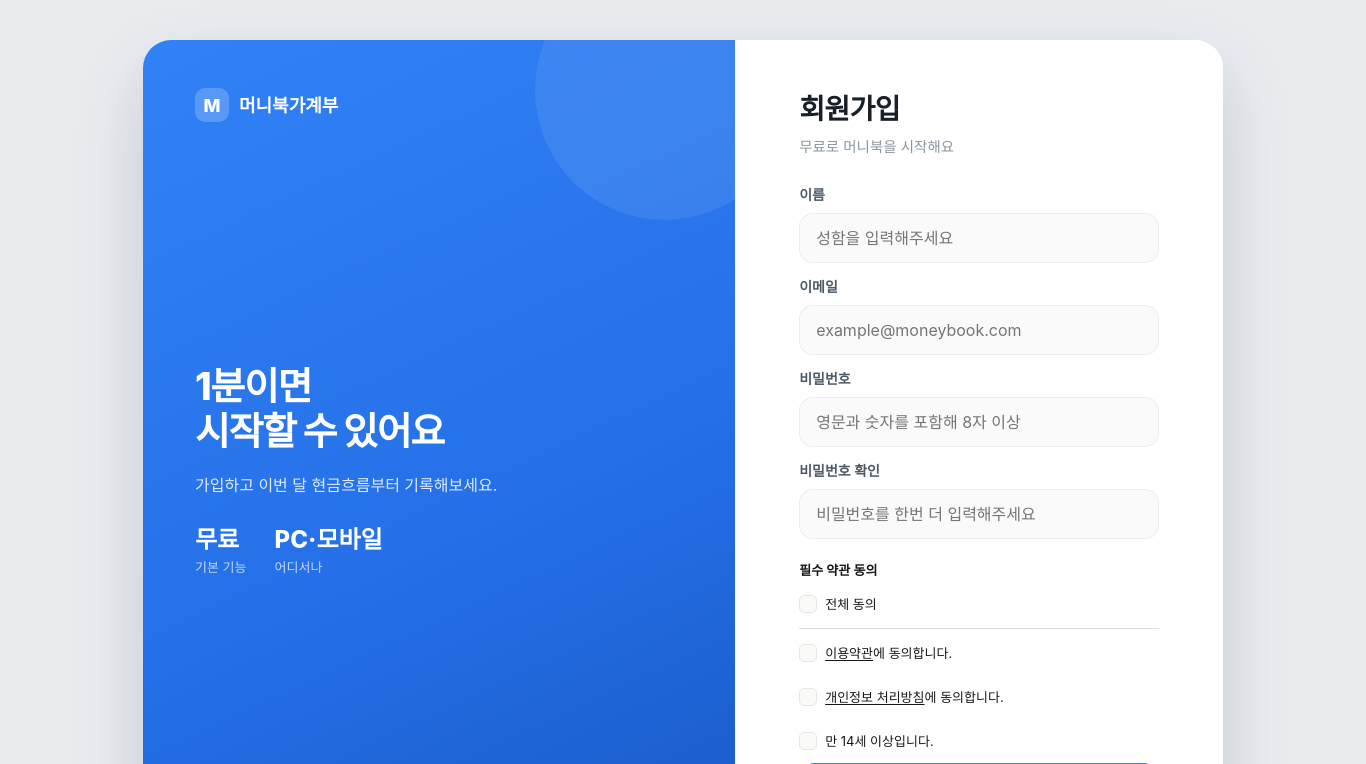
it: SignupPage legal consent validation › shows the Korean consent error and focuses the first unchecked checkbox
This screenshot has width=1366, height=764.
Type "홍길동" into the field labelled "이름" at (979, 238), box [799,213,1159,263]
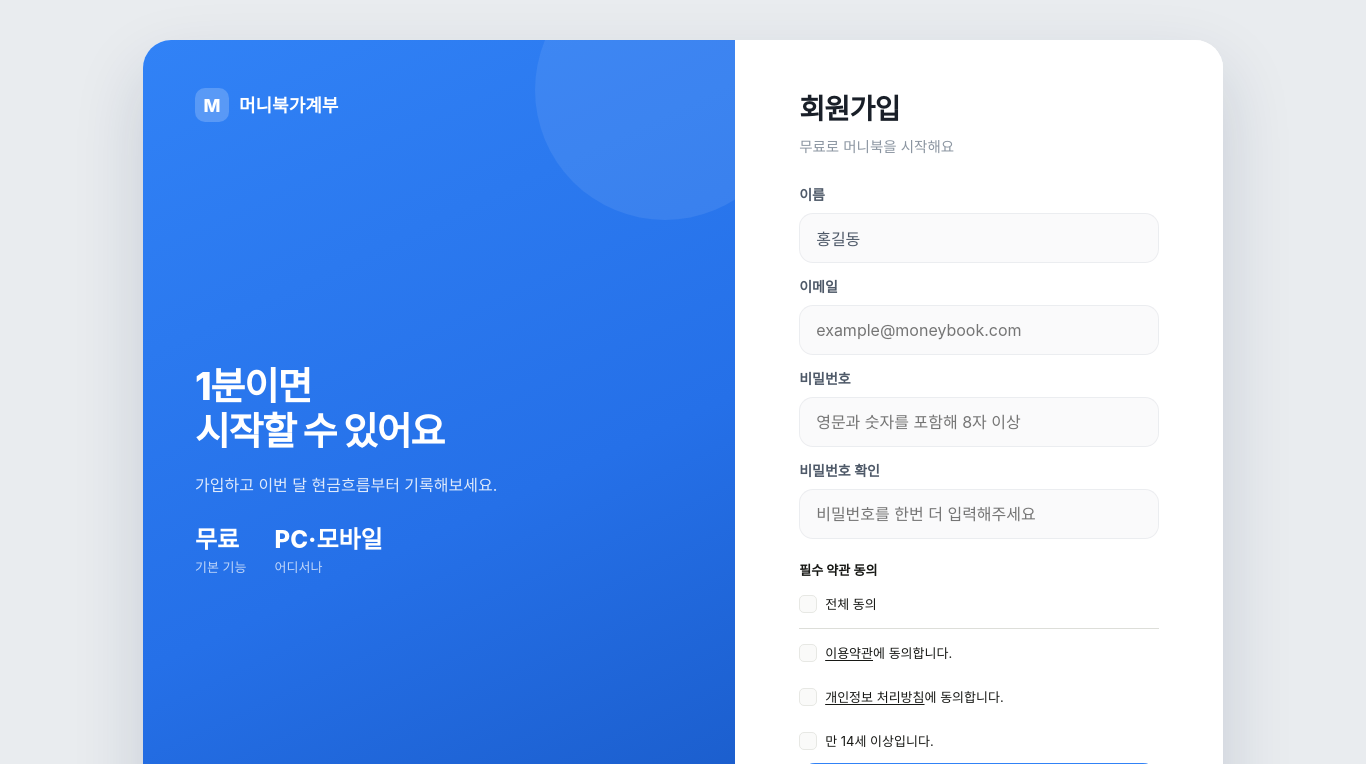
Type "hong@example.com" into the field labelled "이메일" at (979, 330), box [799,305,1159,355]
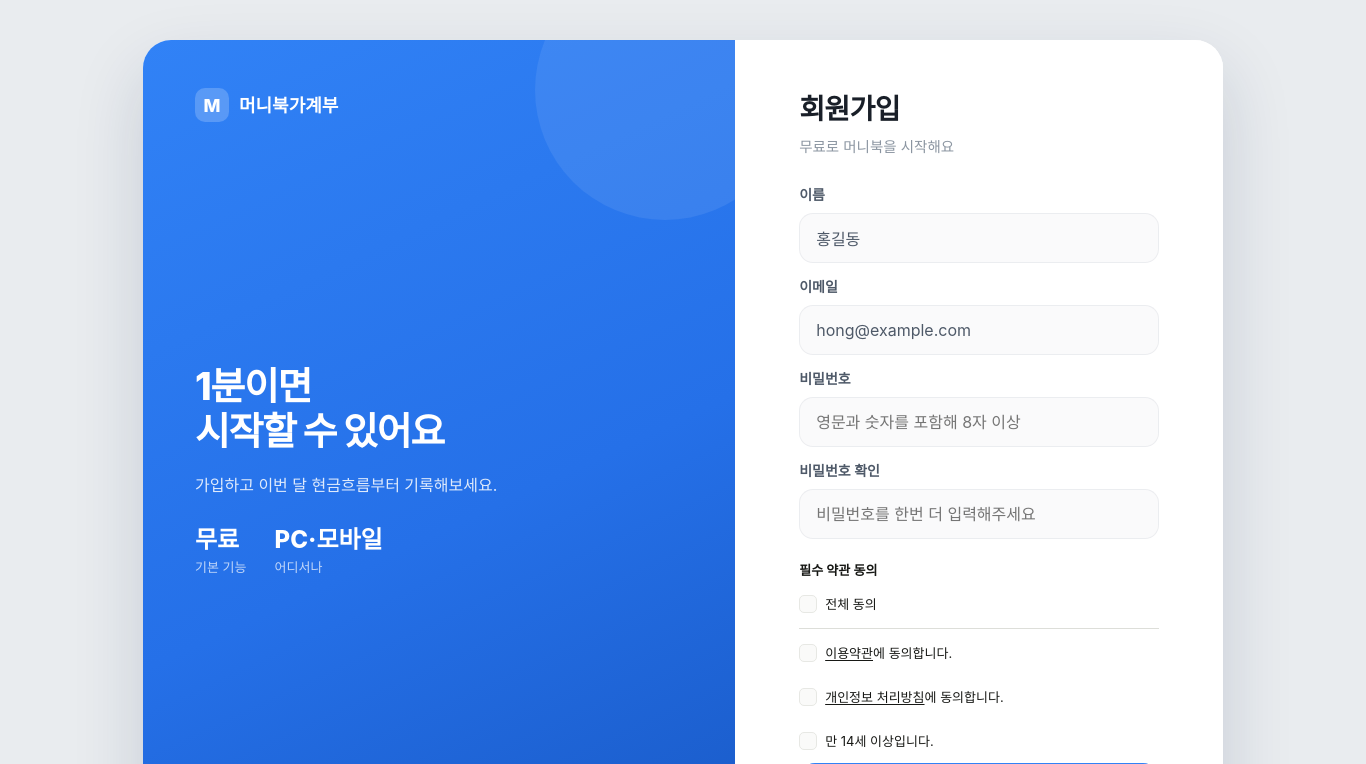
Type "password123" into the password field labelled "비밀번호" at (979, 422), box [799,397,1159,447]
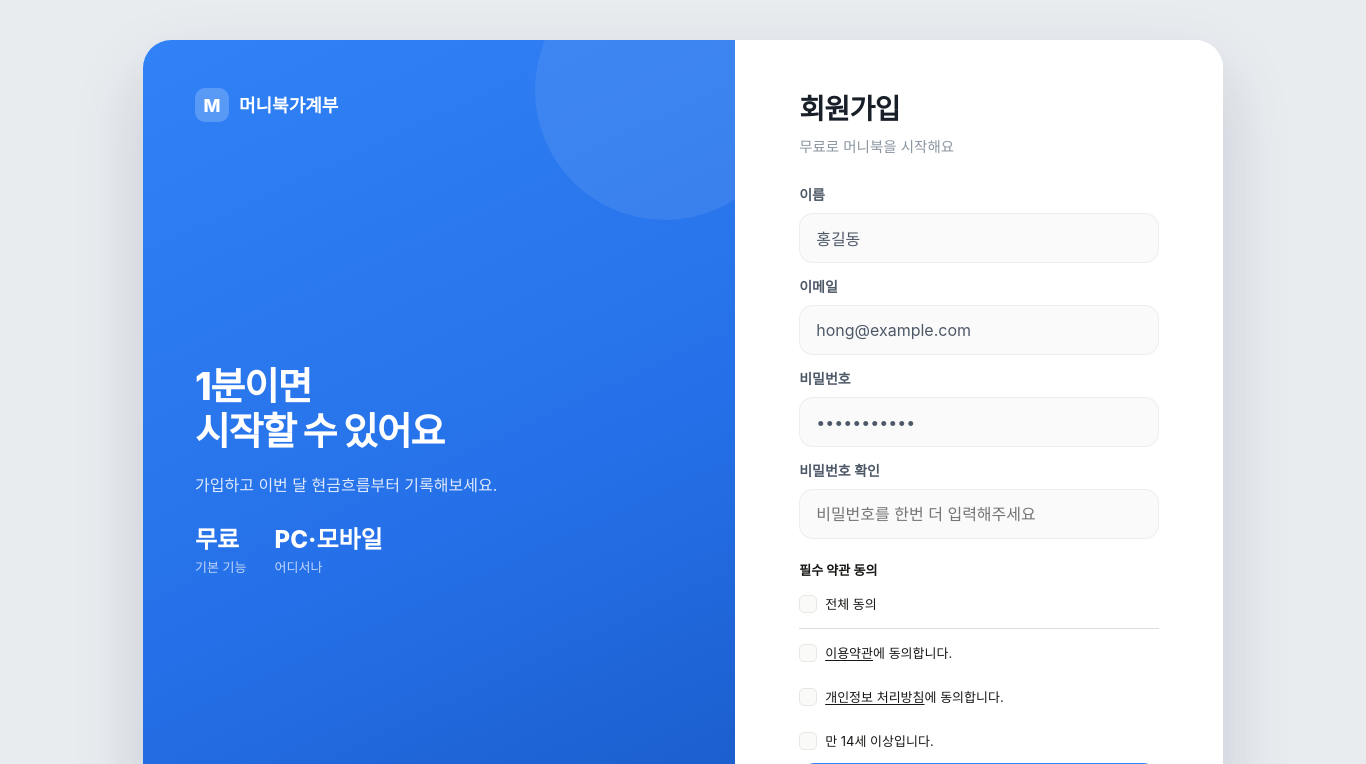
Type "password123" into the password field labelled "비밀번호 확인" at (979, 514), box [799,489,1159,539]
(page scrolled)
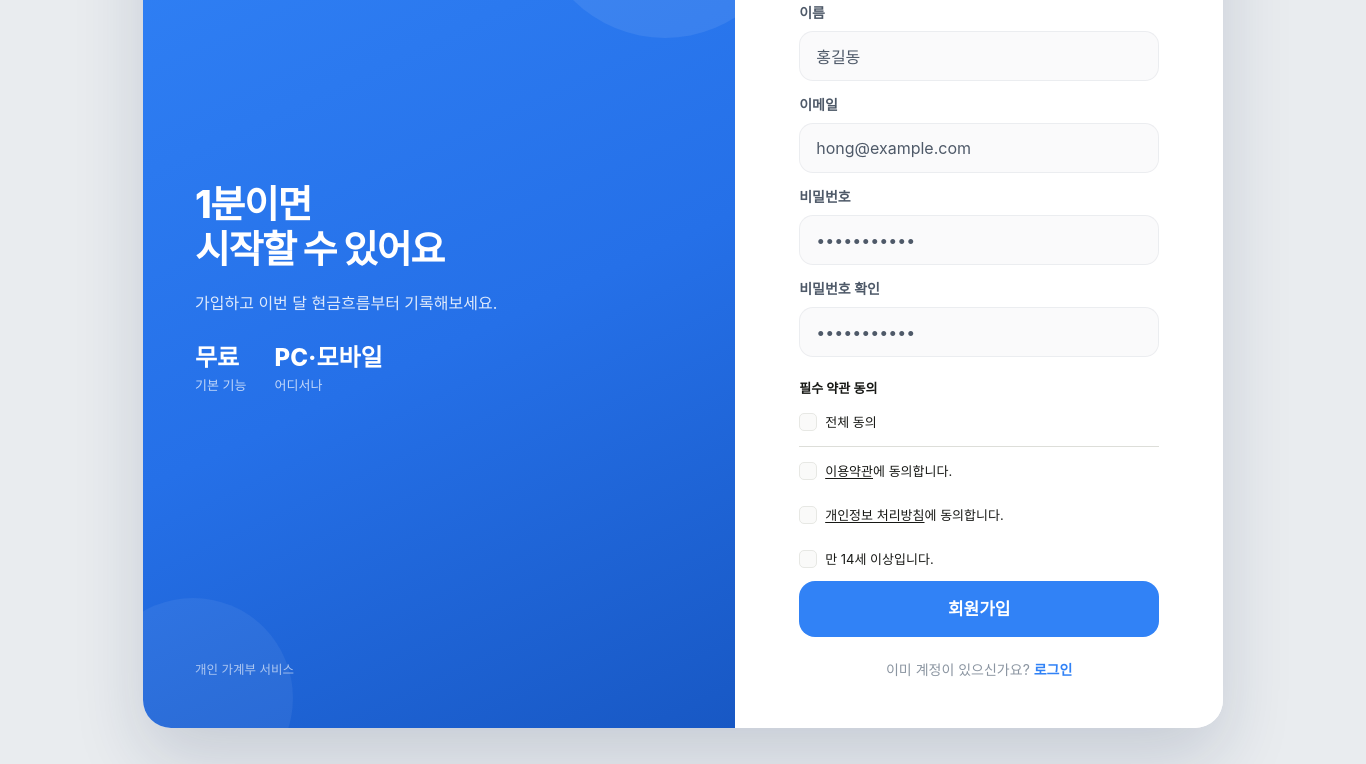
Click the button "회원가입" at (979, 609), box [799,581,1159,637]
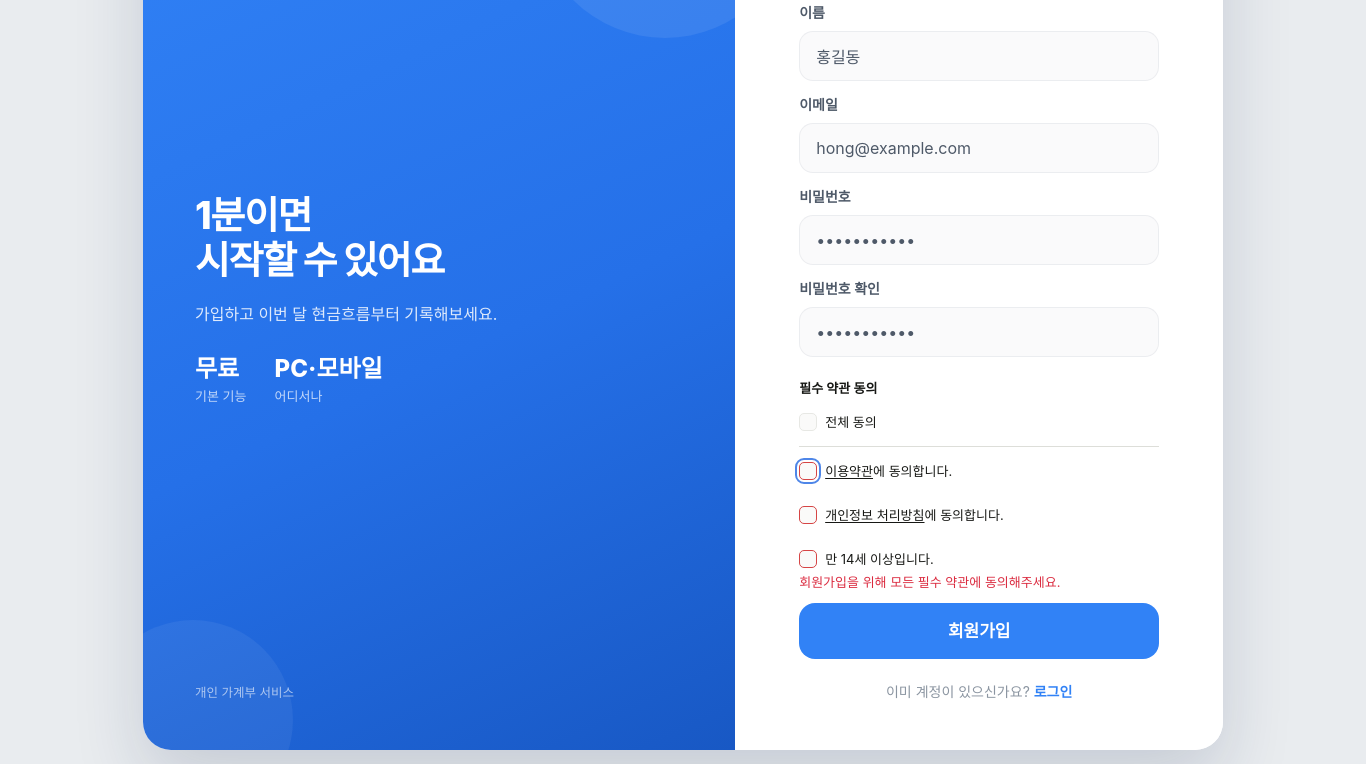
Expected: the message reads "회원가입을 위해 모든 필수 약관에 동의해주세요.", [799,574,1060,590]
